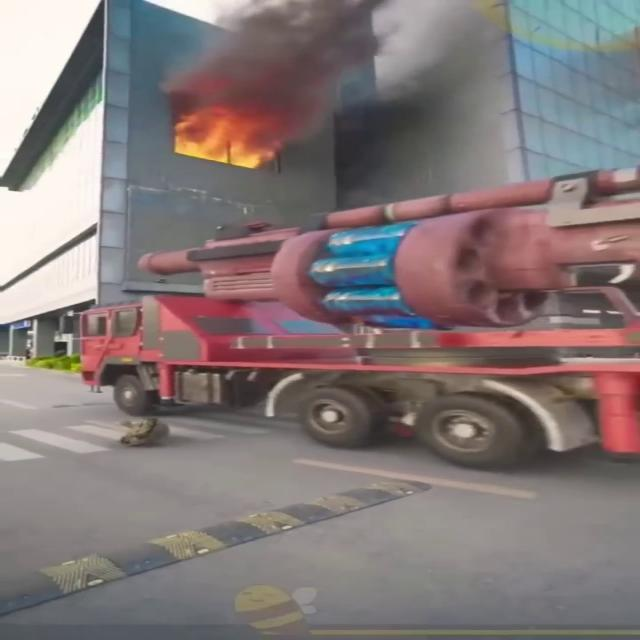Fire: (164, 102, 282, 168)
Smoke: (158, 0, 518, 118)
